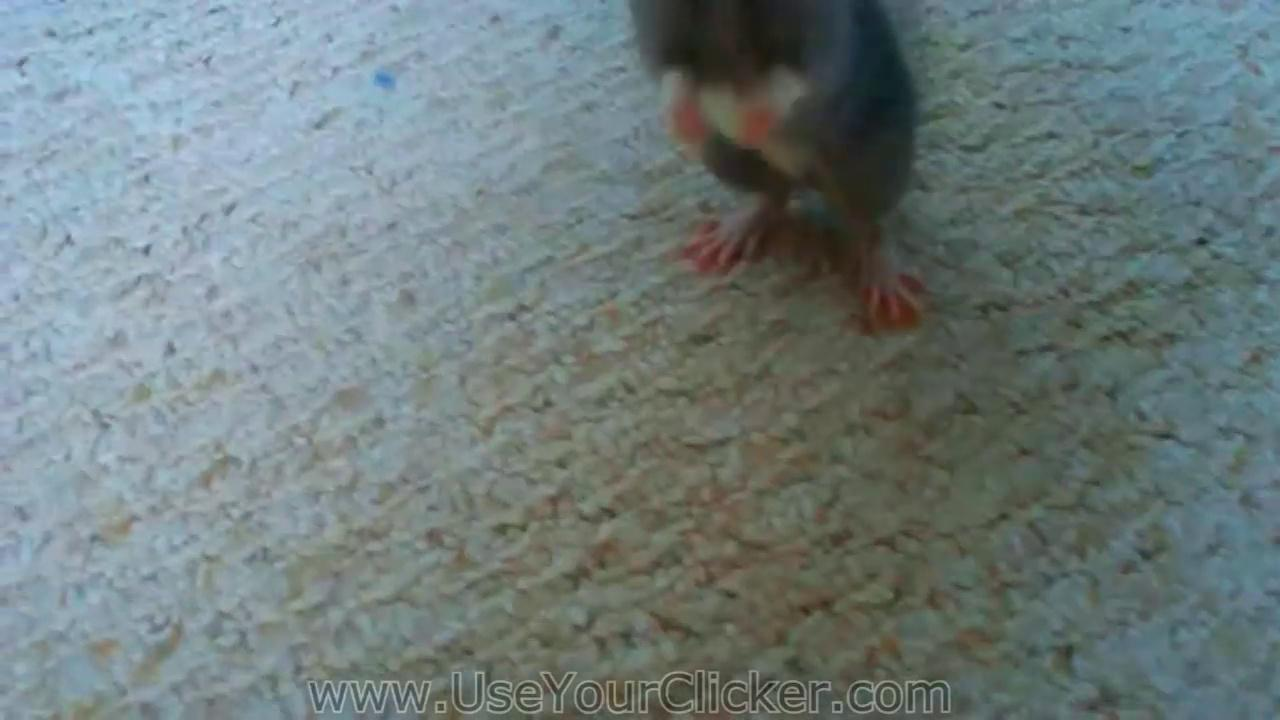rat: (637, 1, 925, 337)
